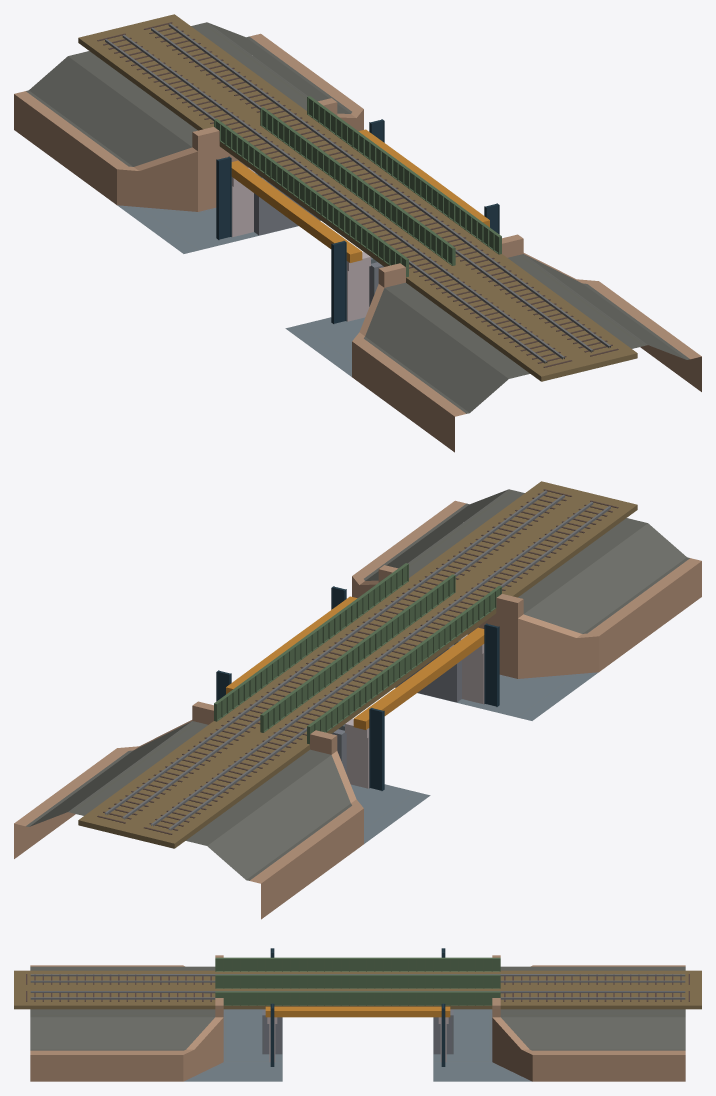
Rendered from Monty_Bridge V4.fbx.
The picture shows the model from 3 angles, top to bottom: view 1: azimuth 30°, elevation 25°; view 2: azimuth 150°, elevation 25°; view 3: azimuth 270°, elevation 25°; orthographic projection. The views are drawn at different scales.
Visible parts, largest first — view 1: Bridge_Base, Bride_Middle; view 2: Bridge_Base, Bride_Middle; view 3: Bridge_Base, Bride_Middle.
Part boxes in pixels (bbox=[...]): Bridge_Base: bbox=[14, 14, 701, 452]; Bride_Middle: bbox=[214, 96, 501, 323]; Bridge_Base: bbox=[14, 481, 701, 919]; Bride_Middle: bbox=[214, 563, 501, 790]; Bridge_Base: bbox=[14, 955, 701, 1081]; Bride_Middle: bbox=[215, 948, 500, 1066].
Size of the model in its own units: 25.25 by 8.13 by 82.
Materials: 1 (1 with a texture image).
